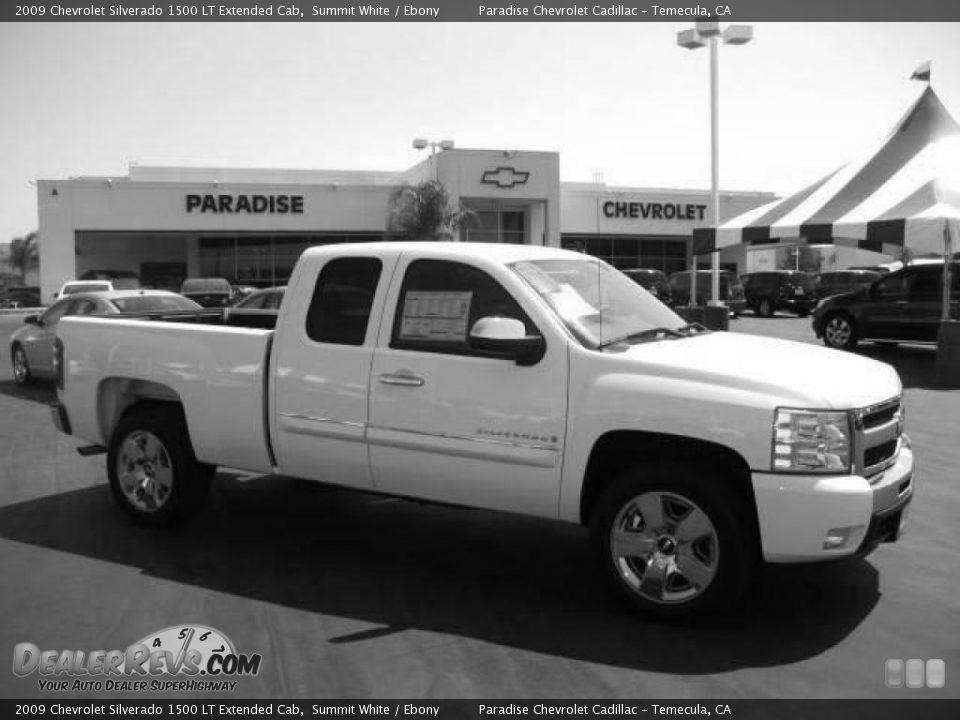car: (46, 231, 914, 651)
